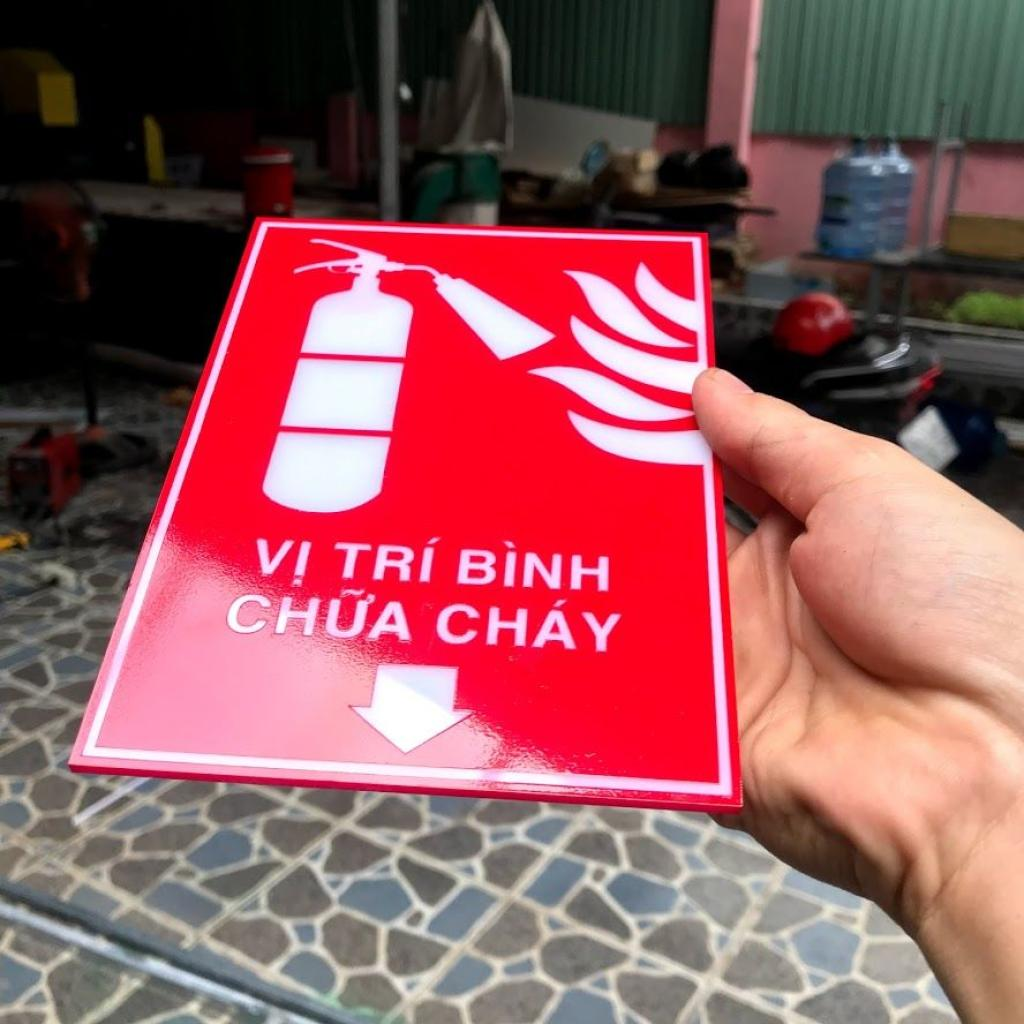text: (223, 587, 415, 645), (454, 536, 612, 594), (330, 530, 444, 584), (255, 535, 318, 589)
